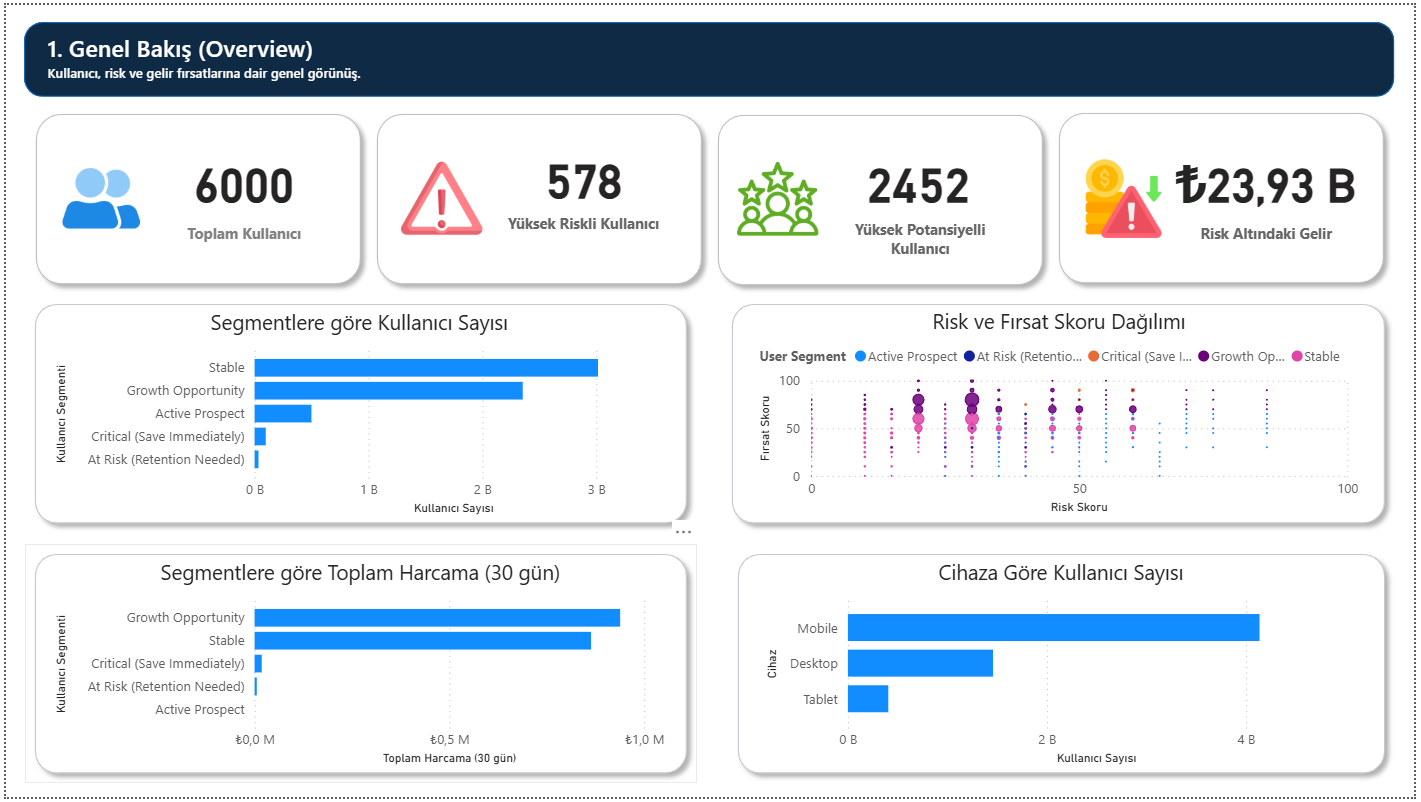

What the dashboard file says about the page in this screenshot:
{"tool":"powerbi","page":{"name":"Genel Bakış","canvas":[1280,720],"ordinal":0},"visuals":[{"type":"group","id":"g1","title":"Grup 1","box":[17.8,90.3,313.4,172.8],"z":0},{"type":"shape","box":[638.1,90.9,313.4,172.8],"z":0,"group":"g3"},{"type":"shape","box":[651,263.2,611.6,217.6],"z":0,"group":"g6"},{"type":"shape","box":[656.4,489.7,606.3,217.6],"z":0,"group":"g8"},{"type":"group","id":"g2","title":"Grup 2","box":[328,90.3,313.4,172.8],"z":1000},{"type":"shape","box":[328,90.3,313.4,172.8],"z":1000,"group":"g2"},{"type":"shape","box":[17,262.3,610.7,217.6],"z":1000,"group":"g5"},{"type":"shape","box":[17,489.7,610.7,217.6],"z":1000,"group":"g7"},{"type":"shape","box":[948.3,89.4,313.4,172.8],"z":2000,"group":"g4"},{"type":"group","id":"g3","title":"Grup 3","box":[638.1,90.9,313.4,172.8],"z":2000},{"type":"barChart","title":"Segmentlere göre Kullanıcı Sayısı","fields":{"Category":["tbl_data.User Segment"],"Y":["CountNonNull(tbl_data.user_id)"]},"box":[39.4,274.8,562.4,192.5],"z":2000,"group":"g5"},{"type":"barChart","title":"Segmentlere göre Toplam Harcama (30 gün)","fields":{"Category":["tbl_data.User Segment"],"Y":["Sum(tbl_data.total_spent_30d)"]},"box":[39.4,502.2,564.2,192.5],"z":2000,"group":"g7"},{"type":"group","id":"g4","title":"Grup 4","box":[948.3,89.4,313.4,172.8],"z":3000},{"type":"shape","box":[17.8,90.3,313.4,172.8],"z":3000,"group":"g1"},{"type":"scatterChart","title":"Risk ve Fırsat Skoru Dağılımı","fields":{"X":["tbl_data.risk_score_col"],"Y":["tbl_data.opportunity_score_col"],"Size":["Sum(tbl_data.total_spent_30d)"],"Series":["tbl_data.User Segment"]},"box":[679.7,274.8,554.3,192.5],"z":3000,"group":"g6"},{"type":"barChart","title":"Cihaza Göre Kullanıcı Sayısı","fields":{"Category":["tbl_data.device"],"Y":["CountNonNull(tbl_data.user_id)"]},"box":[686.8,502.2,545.4,192.5],"z":3000,"group":"g8"},{"type":"card","fields":{"Values":["tbl_data.Total Users"]},"box":[124.4,118.4,183.6,82.4],"z":4000,"group":"g1"},{"type":"textbox","box":[440.8,185.1,168.4,49.3],"z":4000,"group":"g2"},{"type":"group","id":"g5","title":"Grup 5","box":[17,262.3,610.7,217.6],"z":4000},{"type":"card","fields":{"Values":["tbl_data.High Risk Users"]},"box":[433.7,115.4,182.7,81.5],"z":5000,"group":"g2"},{"type":"textbox","box":[754.4,189.9,153.1,48.4],"z":5000,"group":"g3"},{"type":"group","id":"g6","title":"Grup 6","box":[651,263.2,611.6,217.6],"z":5000},{"type":"card","fields":{"Values":["tbl_data.High Opportunity Users"]},"box":[738.4,117.9,182.7,82.4],"z":6000,"group":"g3"},{"type":"textbox","box":[1069.2,194.2,153.1,31.3],"z":6000,"group":"g4"},{"type":"group","id":"g7","title":"Grup 7","box":[17,489.7,610.7,217.6],"z":6000},{"type":"shape","box":[16.1,15.1,1245.7,68.1],"z":7000,"group":"g9"},{"type":"card","fields":{"Values":["tbl_data.Revenue At Risk"]},"box":[1054,118,183.6,82.4],"z":7000,"group":"g4"},{"type":"group","id":"g8","title":"Grup 8","box":[656.4,489.7,606.3,217.6],"z":7000},{"type":"textbox","box":[139.6,193.6,153.1,31.3],"z":7003,"group":"g1"},{"type":"group","id":"g9","title":"Grup 9","box":[16.1,15.1,1245.7,68.1],"z":8000},{"type":"textbox","box":[32.7,18.7,331.2,56.4],"z":8000,"group":"g9"},{"type":"image","box":[49.1,138.9,75.2,75.2],"z":10000,"group":"g1"},{"type":"image","box":[359.3,138.7,74.3,75.2],"z":11000,"group":"g2"},{"type":"image","box":[664.3,138.7,74.3,74.3],"z":12000,"group":"g3"},{"type":"image","box":[979.6,139.5,74.3,74.3],"z":13000,"group":"g4"}]}

Visuals, with their boxes in screenshot pixels (x1, y1, x2, y2), scaled from the page's 1280x720 canvas onto the 1421x802 screenshot:
"Grup 1" group: left=20, top=101, right=368, bottom=293
shape: left=708, top=101, right=1056, bottom=294
shape: left=723, top=293, right=1402, bottom=536
shape: left=729, top=545, right=1402, bottom=788
"Grup 2" group: left=364, top=101, right=712, bottom=293
shape: left=364, top=101, right=712, bottom=293
shape: left=19, top=292, right=697, bottom=535
shape: left=19, top=545, right=697, bottom=788
shape: left=1053, top=100, right=1401, bottom=292
"Grup 3" group: left=708, top=101, right=1056, bottom=294
"Segmentlere göre Kullanıcı Sayısı" barChart: left=44, top=306, right=668, bottom=521
"Segmentlere göre Toplam Harcama (30 gün)" barChart: left=44, top=559, right=670, bottom=774
"Grup 4" group: left=1053, top=100, right=1401, bottom=292
shape: left=20, top=101, right=368, bottom=293
"Risk ve Fırsat Skoru Dağılımı" scatterChart: left=755, top=306, right=1370, bottom=521
"Cihaza Göre Kullanıcı Sayısı" barChart: left=762, top=559, right=1368, bottom=774
card - tbl_data.Total Users: left=138, top=132, right=342, bottom=224
textbox: left=489, top=206, right=676, bottom=261
"Grup 5" group: left=19, top=292, right=697, bottom=535
card - tbl_data.High Risk Users: left=481, top=129, right=684, bottom=219
textbox: left=838, top=212, right=1007, bottom=265
"Grup 6" group: left=723, top=293, right=1402, bottom=536
card - tbl_data.High Opportunity Users: left=820, top=131, right=1023, bottom=223
textbox: left=1187, top=216, right=1357, bottom=251
"Grup 7" group: left=19, top=545, right=697, bottom=788
shape: left=18, top=17, right=1401, bottom=93
card - tbl_data.Revenue At Risk: left=1170, top=131, right=1374, bottom=223
"Grup 8" group: left=729, top=545, right=1402, bottom=788
textbox: left=155, top=216, right=325, bottom=251
"Grup 9" group: left=18, top=17, right=1401, bottom=93
textbox: left=36, top=21, right=404, bottom=84
image: left=55, top=155, right=138, bottom=238
image: left=399, top=154, right=481, bottom=238
image: left=737, top=154, right=820, bottom=237
image: left=1088, top=155, right=1170, bottom=238
